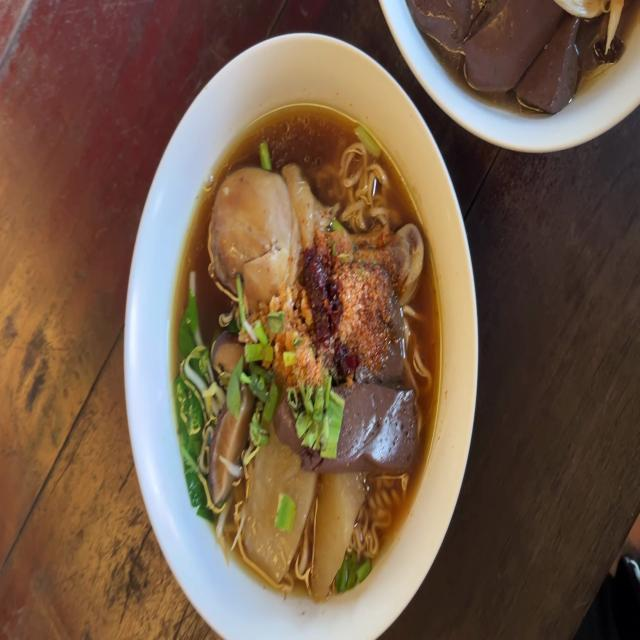noodle: (188, 121, 430, 591)
